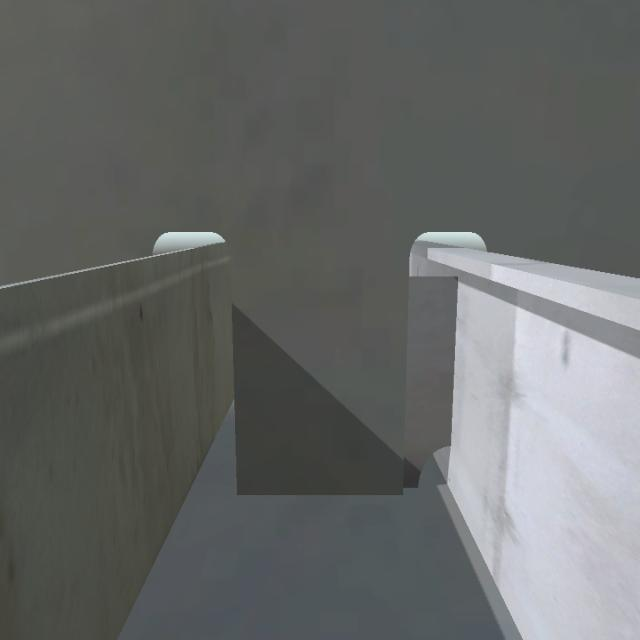fillet_hole: (418, 444, 453, 494)
fillet_yong_jeop_jang: (228, 481, 424, 503)
longi_yong_jeop_jang: (447, 273, 460, 444)
plate_behind: (410, 278, 455, 492)
